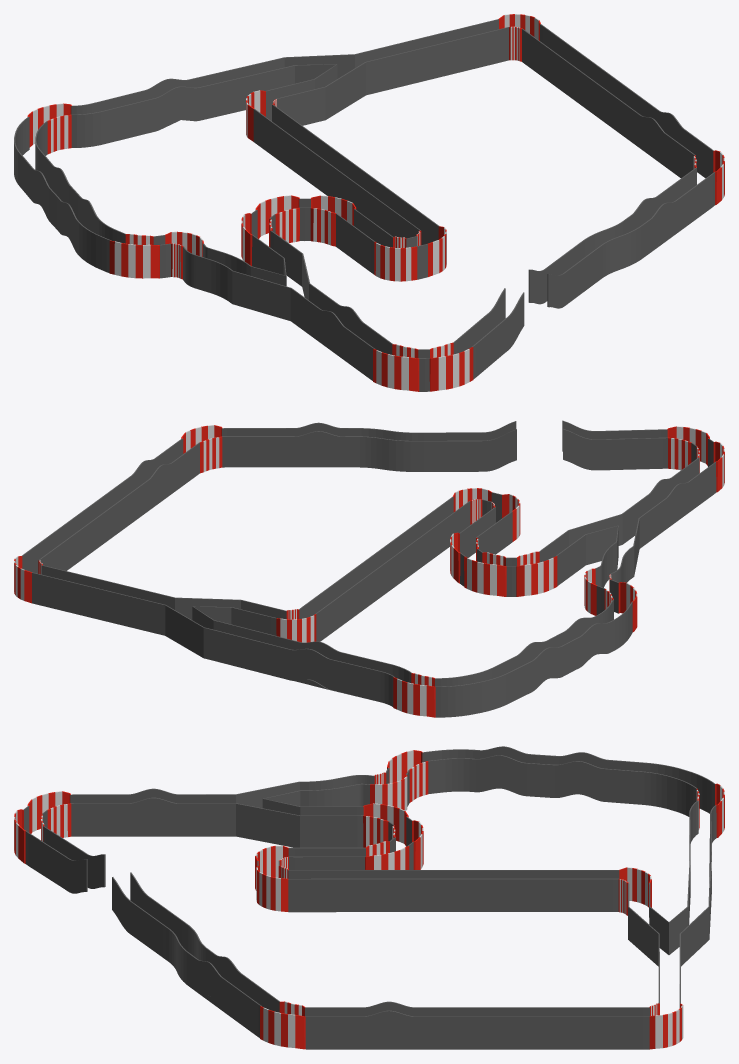
Rendered from Track 3 Barrier.fbx.
The picture shows the model from 3 angles, top to bottom: view 1: azimuth 30°, elevation 25°; view 2: azimuth 150°, elevation 25°; view 3: azimuth 270°, elevation 25°; orthographic projection. The views are drawn at different scales.
Visible parts, largest first — view 1: Track 3 Barriers; view 2: Track 3 Barriers; view 3: Track 3 Barriers.
Part boxes in pixels (<box>): Track 3 Barriers: <box>14,14,724,391</box>; Track 3 Barriers: <box>14,420,724,717</box>; Track 3 Barriers: <box>14,746,724,1049</box>.
Bounding box in the file's own units: 263 × 20.48 × 294.
